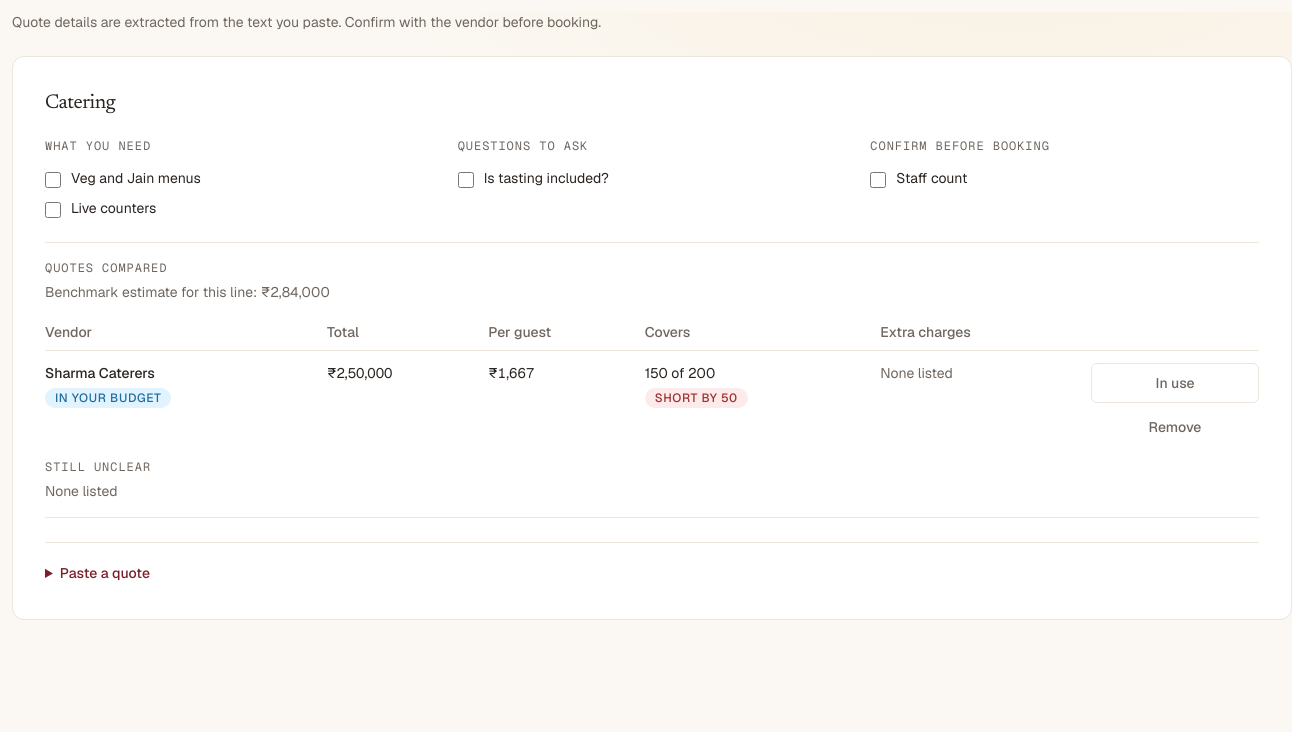
Test case: VendorsTab quotes › removes a quote, and frees the budget line it was used for
The width and height of the screenshot is (1292, 732).
Click the button "Remove" at (1175, 427), box left=1091, top=407, right=1259, bottom=447
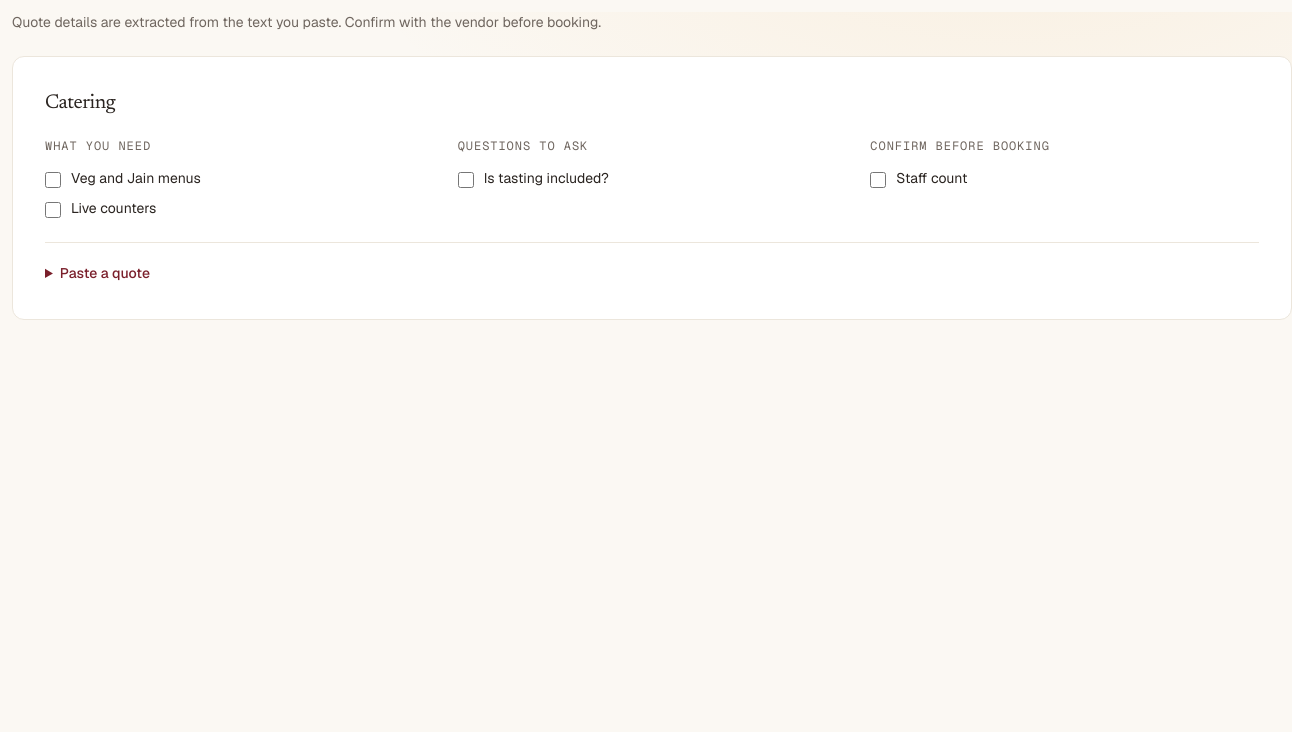
expect the column heading "Sharma Caterers" is gone: met
